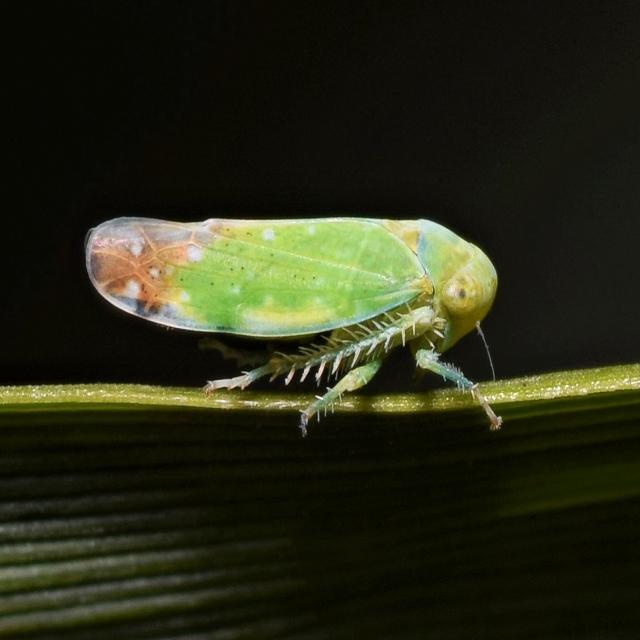Yechan: (70, 177, 523, 417)
